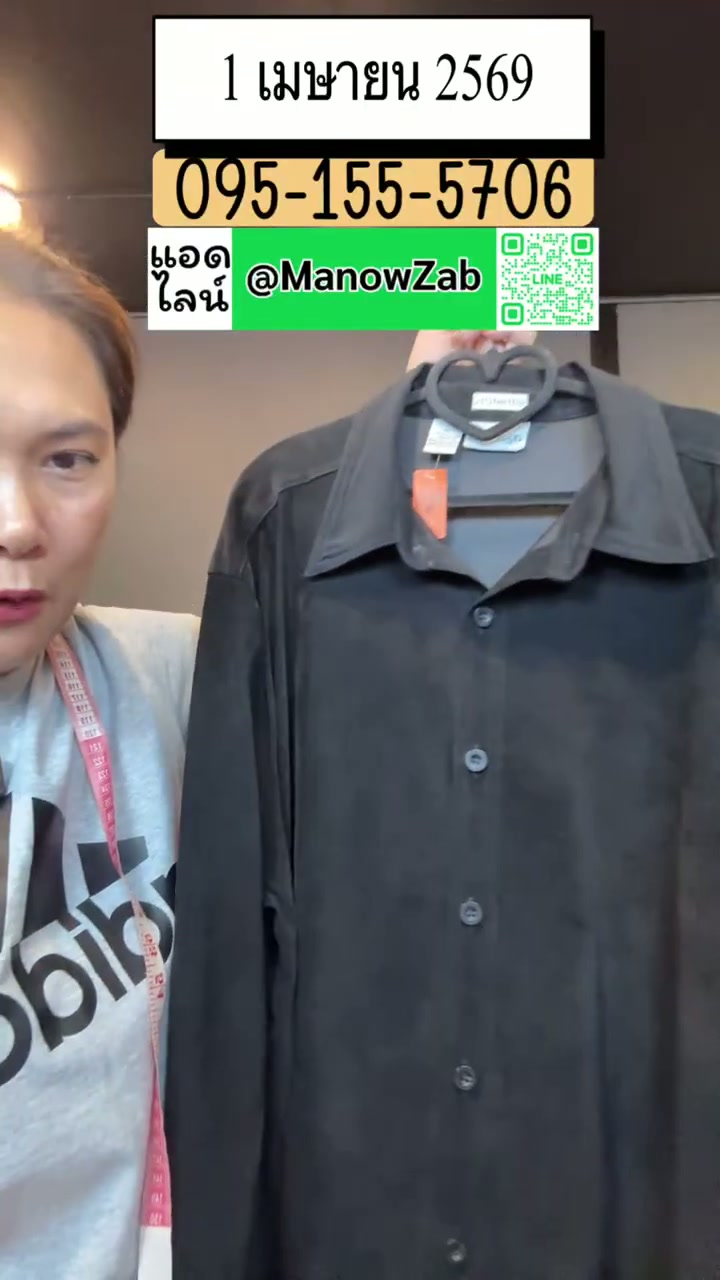display_shirt: (168, 346, 719, 1279)
